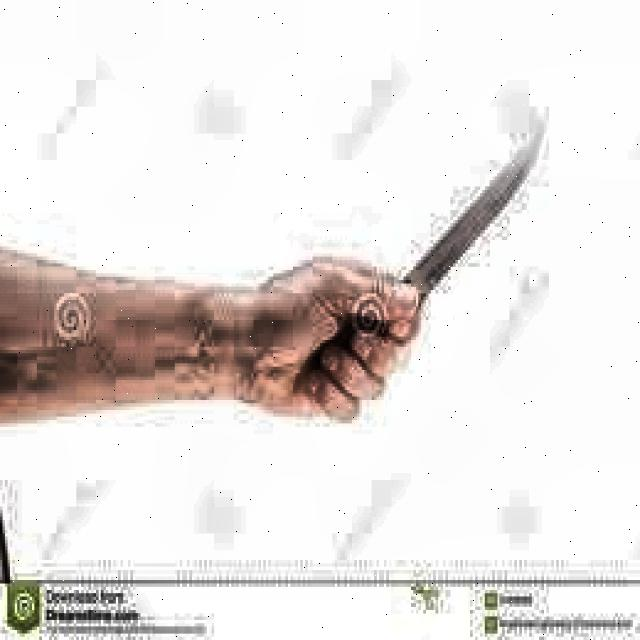knife: (317, 131, 544, 367)
